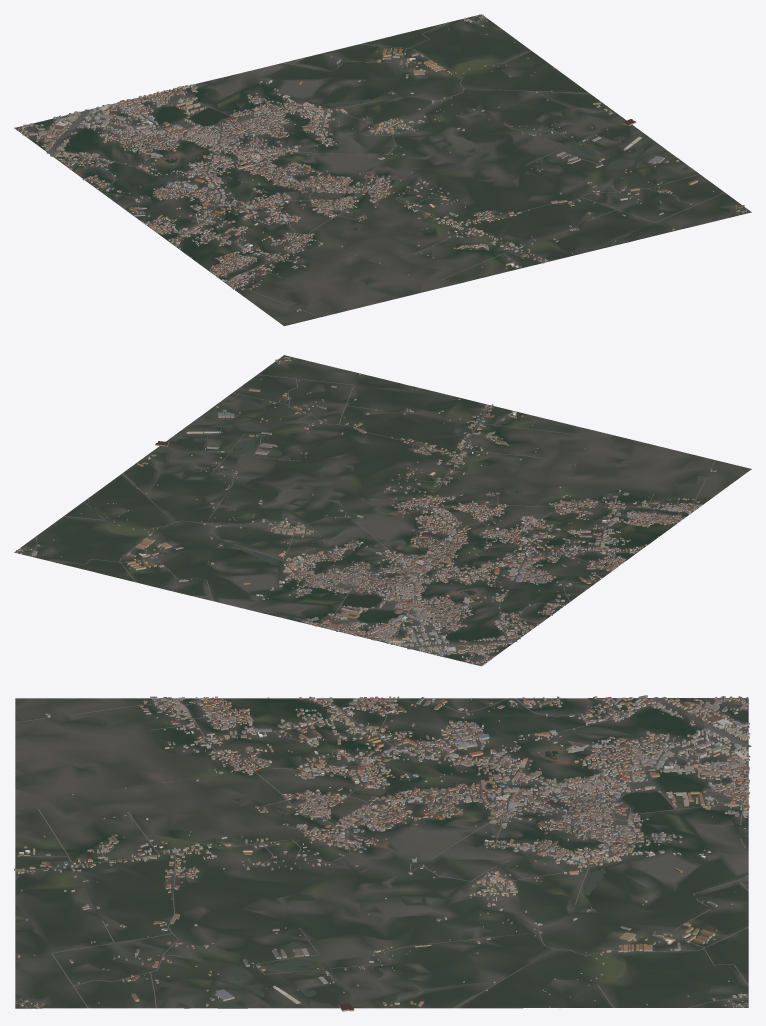
The picture shows the model from 3 angles, top to bottom: view 1: azimuth 30°, elevation 25°; view 2: azimuth 150°, elevation 25°; view 3: azimuth 270°, elevation 25°; orthographic projection. The views are drawn at different scales.
Visible parts, largest first — view 1: ground, buildings, roads, water; view 2: ground, buildings, roads, water; view 3: ground, buildings, roads, water.
Part boxes in pixels (x1,y1,x2,y2): ground: (14,14,751,326); buildings: (14,14,746,311); roads: (16,18,747,317); water: (164,56,687,249); ground: (14,355,751,665); buildings: (16,356,716,666); roads: (30,358,715,665); water: (167,384,620,607); ground: (15,698,748,1008); buildings: (14,695,750,1011); roads: (15,697,751,1008); water: (15,725,745,1008).
Bounding box in the file's own units: 2843 × 23.6 × 2822.
